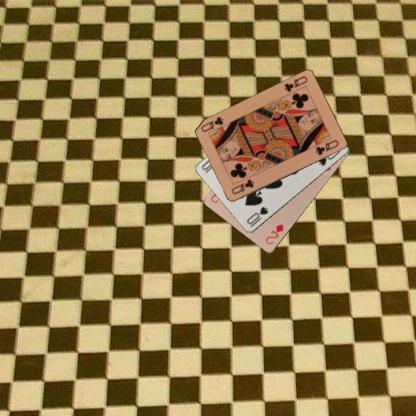10s: (244, 204, 269, 229)
2d: (263, 221, 285, 246)
Qc: (282, 74, 309, 94), (229, 177, 255, 196)
